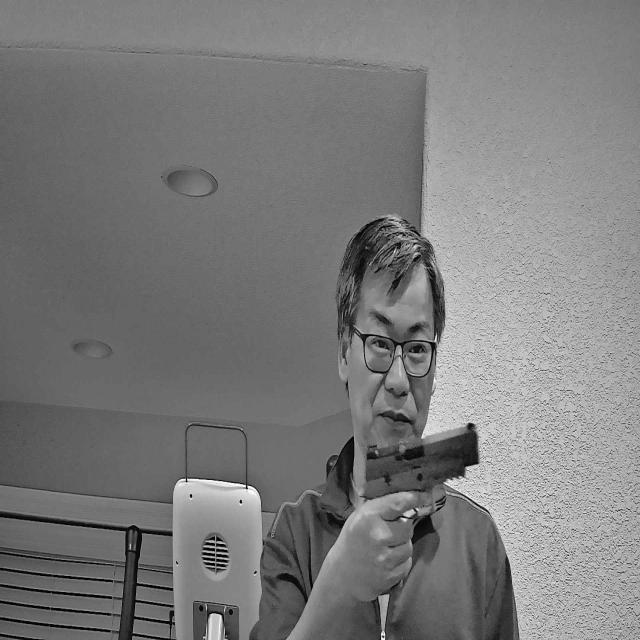Hand-Gun: (350, 410, 487, 620)
